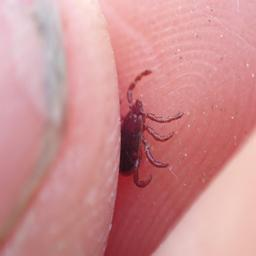Rhipicephalus sanguineus: (113, 68, 183, 188)
